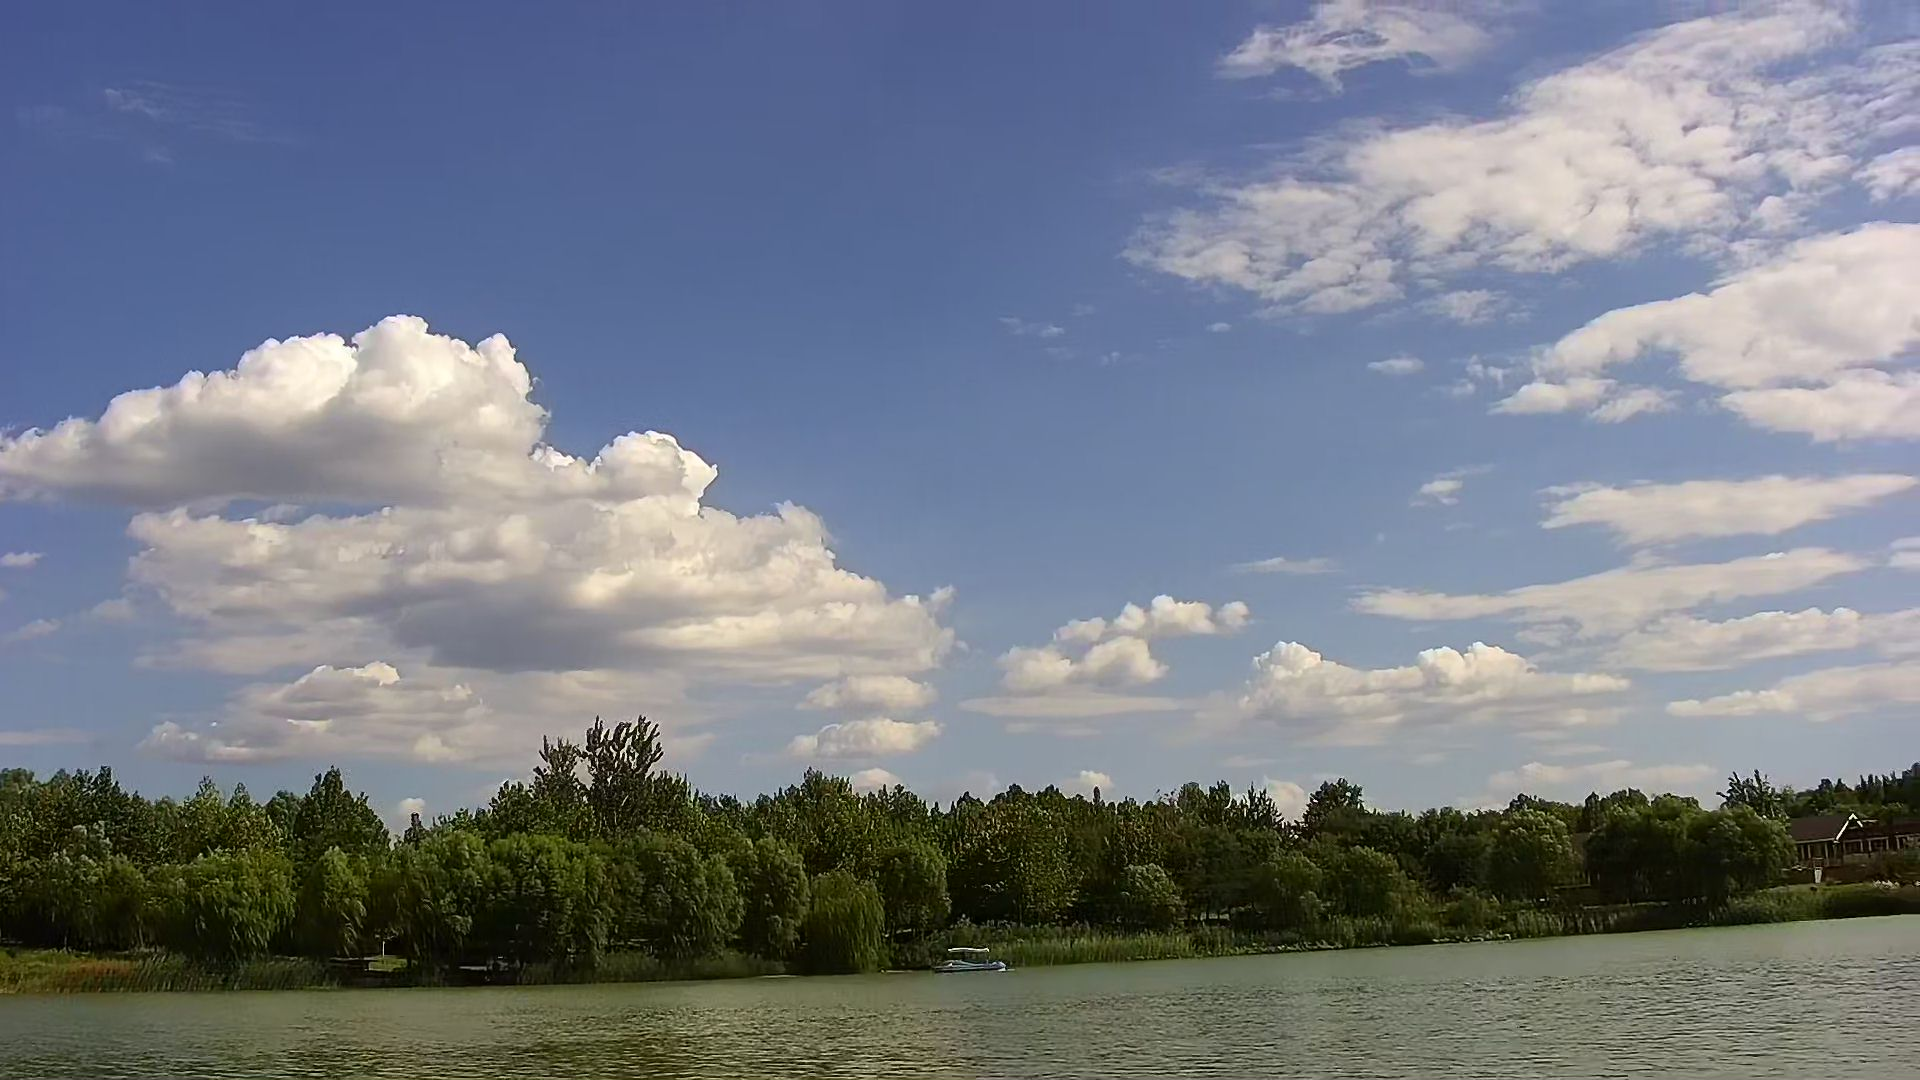boat: (930, 940, 1015, 980)
